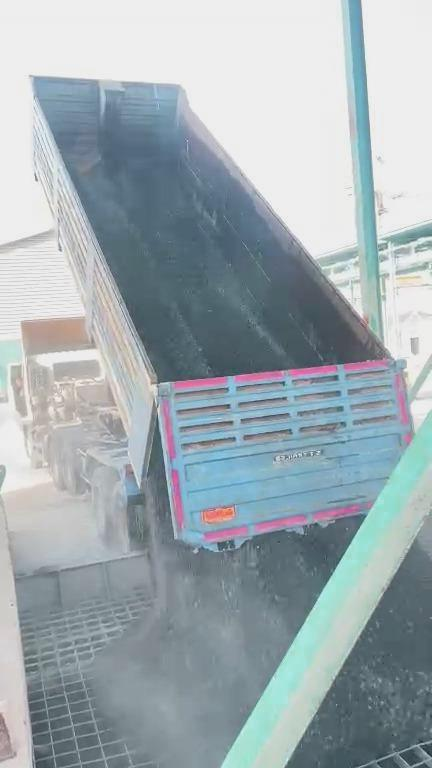gravel: (93, 434, 358, 767), (78, 156, 290, 380), (290, 544, 432, 767)
